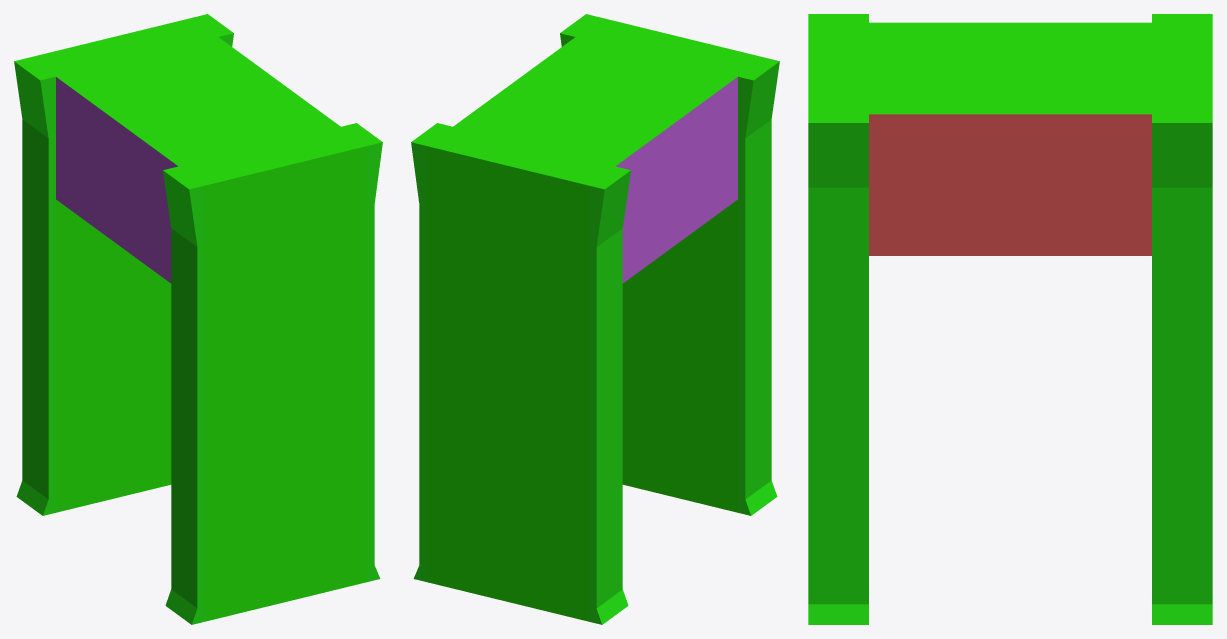
The model's file is DoorFrameV0.fbx.
The picture shows the model from 3 angles, left to right: view 1: azimuth 30°, elevation 25°; view 2: azimuth 150°, elevation 25°; view 3: azimuth 270°, elevation 25°; orthographic projection. The views are drawn at different scales.
Parts seen in each view (by area): view 1: DoorFrameOutside; view 2: DoorFrameOutside; view 3: DoorFrameOutside.
Part boxes in pixels (box(x1,y1,x2,y2)): DoorFrameOutside: box(14, 14, 382, 624); DoorFrameOutside: box(411, 14, 779, 624); DoorFrameOutside: box(808, 14, 1212, 624).
Size of the model in its own units: 217 by 467 by 340.
